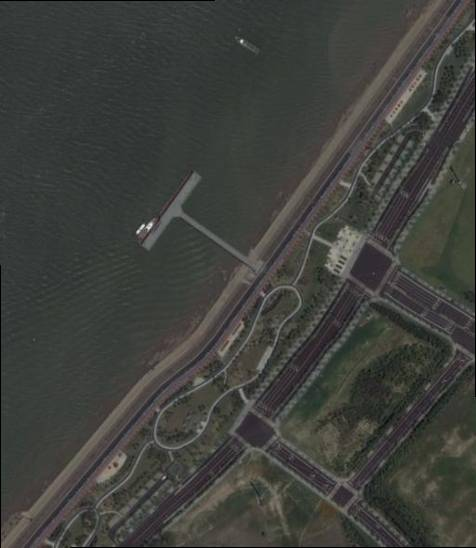harbor: (141, 170, 203, 251), (176, 210, 258, 269)
ship: (135, 215, 159, 243), (235, 35, 260, 56)
